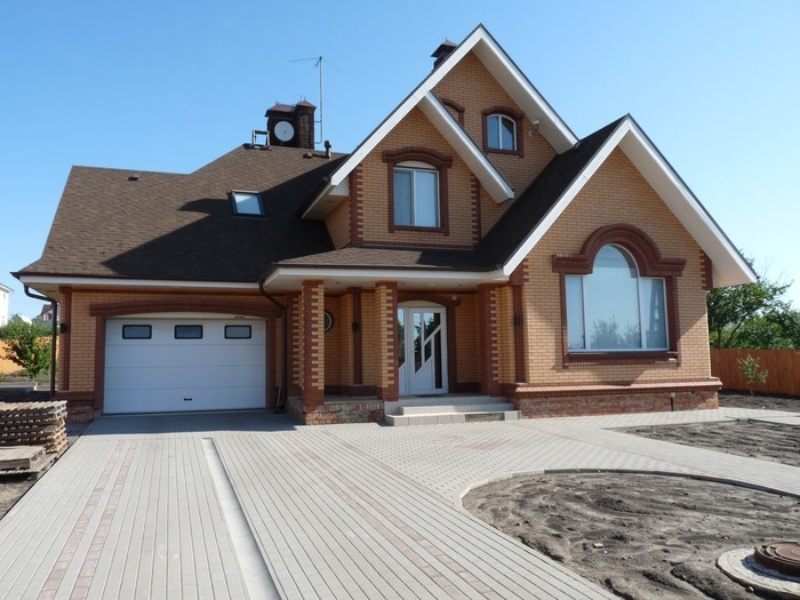window: (551, 220, 677, 352), (389, 145, 447, 229), (483, 103, 521, 153)
